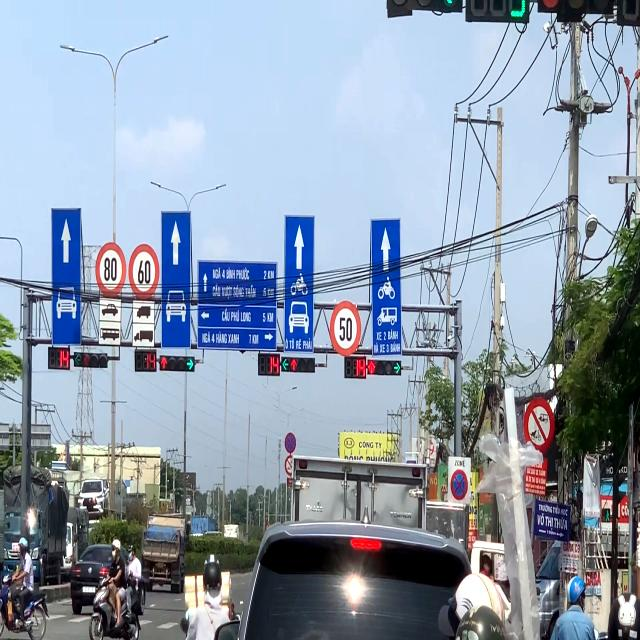P.127: (128, 240, 160, 303), (96, 240, 128, 299), (332, 297, 359, 358)
P.130: (450, 468, 468, 501), (285, 432, 297, 454)
